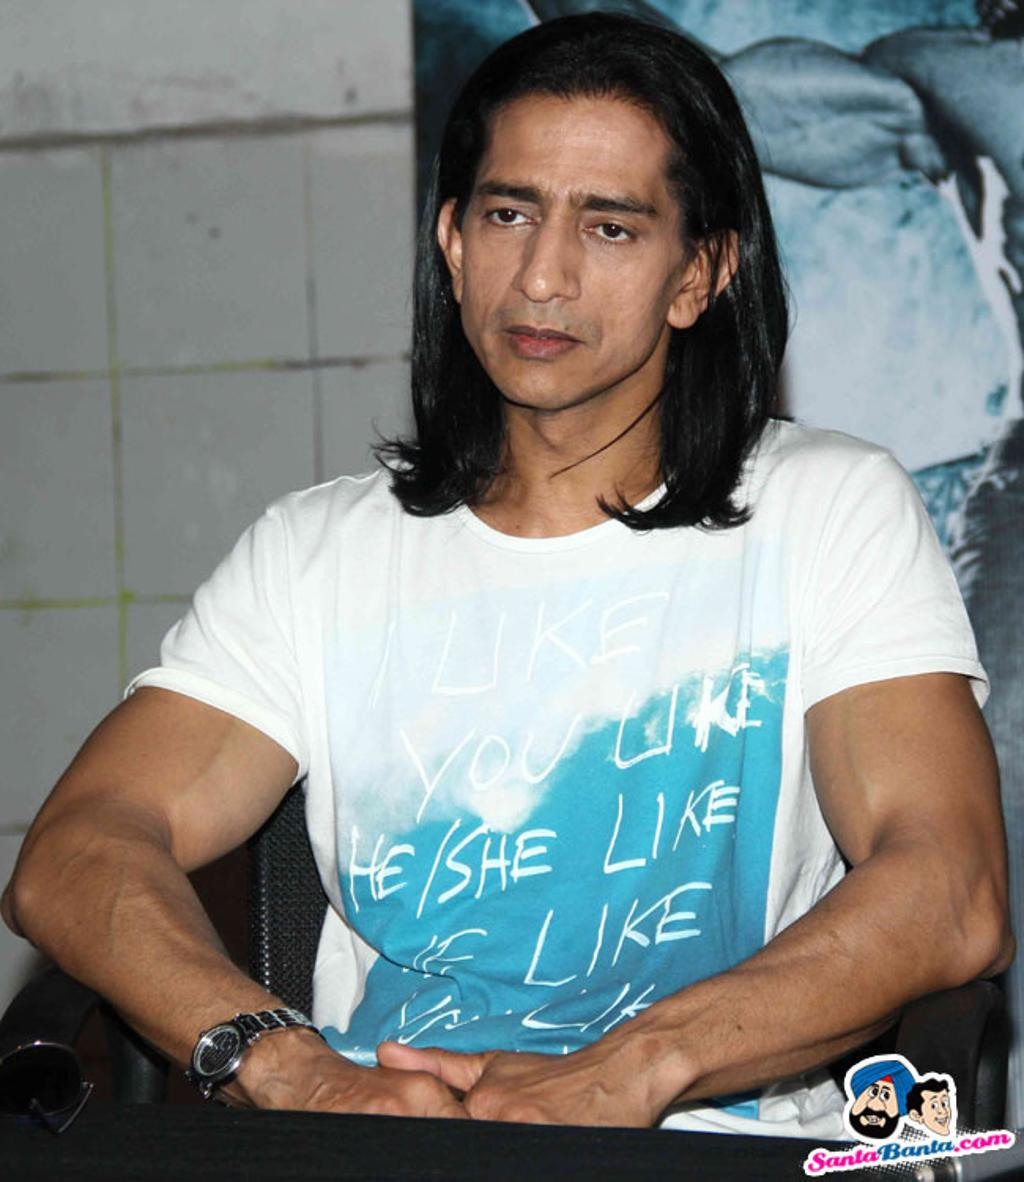face: (465, 93, 670, 409)
